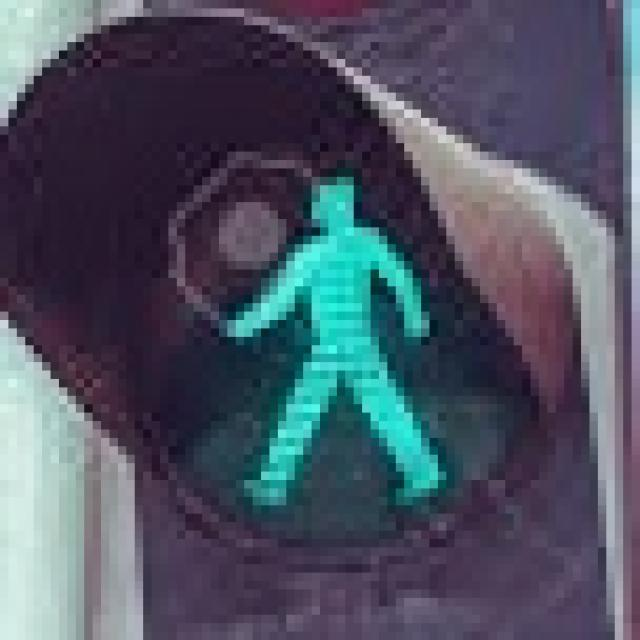green_light: (185, 143, 463, 514)
